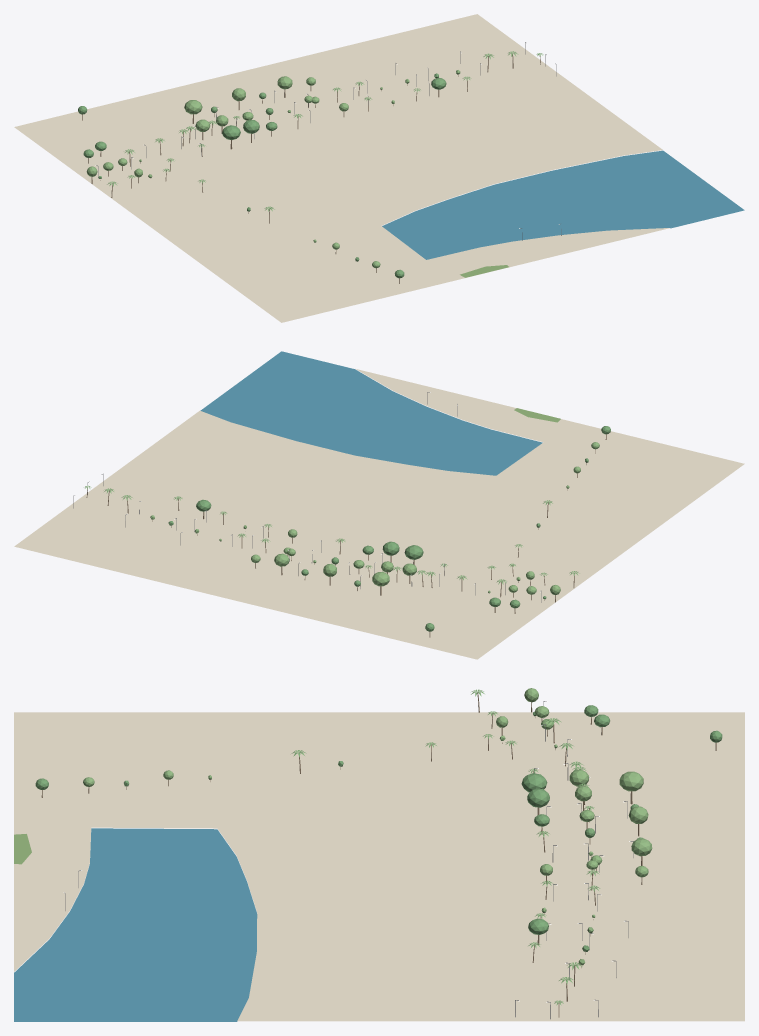
Rendered from nature_-4_5.glb.
3 renders of one model, top to bottom at view 1: azimuth 30°, elevation 25°; view 2: azimuth 150°, elevation 25°; view 3: azimuth 270°, elevation 25°, orthographic. The views are drawn at different scales.
Parts seen in each view (by area): view 1: ground, water, foliage_b, foliage_a, trunk, palm_leaf; view 2: ground, water, foliage_b, foliage_a, trunk, palm_leaf; view 3: ground, water, foliage_b, foliage_a, palm_leaf, trunk.
Part boxes in pixels (x1,y1,x2,y2): ground: (14,14,669,322); water: (382,150,744,259); foliage_b: (86,70,460,268); foliage_a: (78,73,446,278); trunk: (82,54,540,283); palm_leaf: (107,51,543,211); ground: (14,369,744,659); water: (200,351,542,475); foliage_b: (150,442,599,595); foliage_a: (168,426,610,631); trunk: (86,434,606,637); palm_leaf: (85,485,579,584); ground: (14,712,744,1021); water: (14,828,257,1021); foliage_b: (83,688,652,965); foliage_a: (35,705,722,951); palm_leaf: (291,689,600,1005); trunk: (41,692,716,1017).
Bounding box in the file's own units: 252 × 12.12 × 250.
